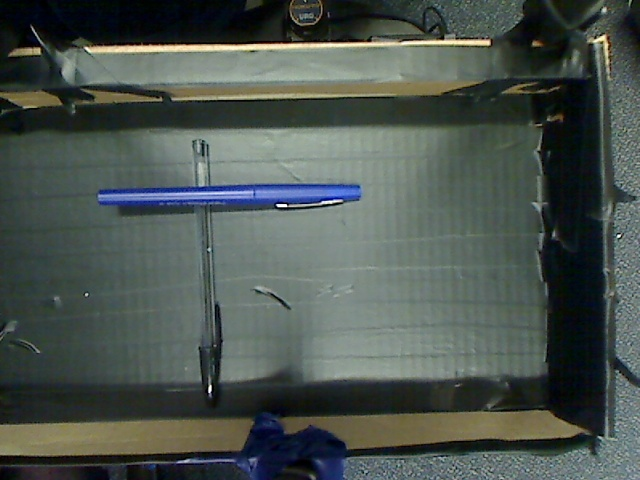pen: (179, 128, 219, 415), (88, 182, 376, 213)
